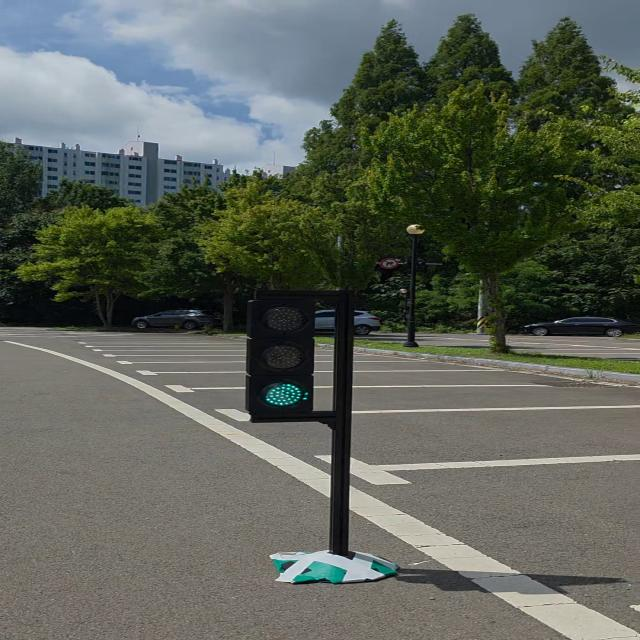green: (244, 289, 320, 419)
